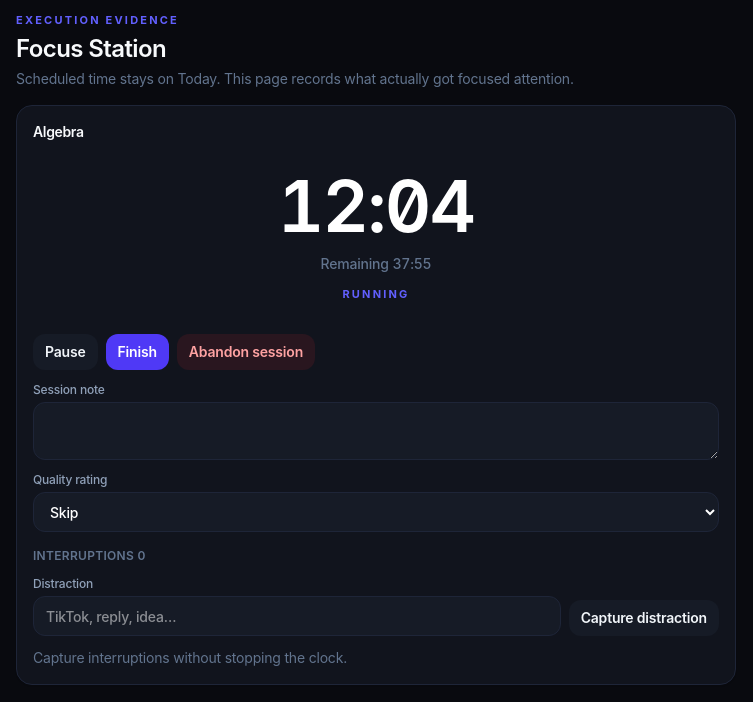
Test: preserves typed reflection on abandon, displays in summary, and persists across reload
Expected: the heading "Focus Station" is shown, [16,34,166,62]
Type "got interrupted by team meeting" into the text box labelled "Session note" at (376, 431), box [33,402,719,460]
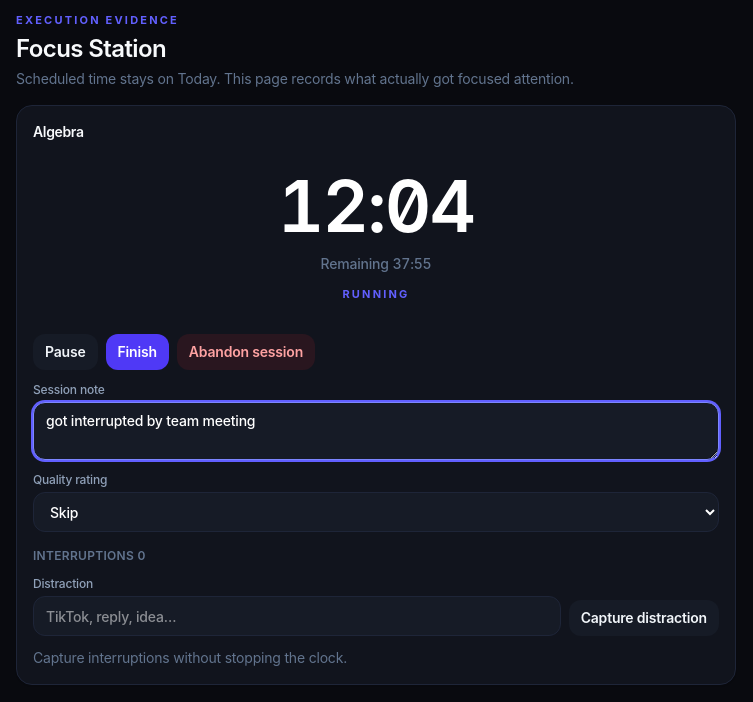
Select "2" in the dropdown labelled "Quality rating" at (376, 512), box [33,492,719,532]
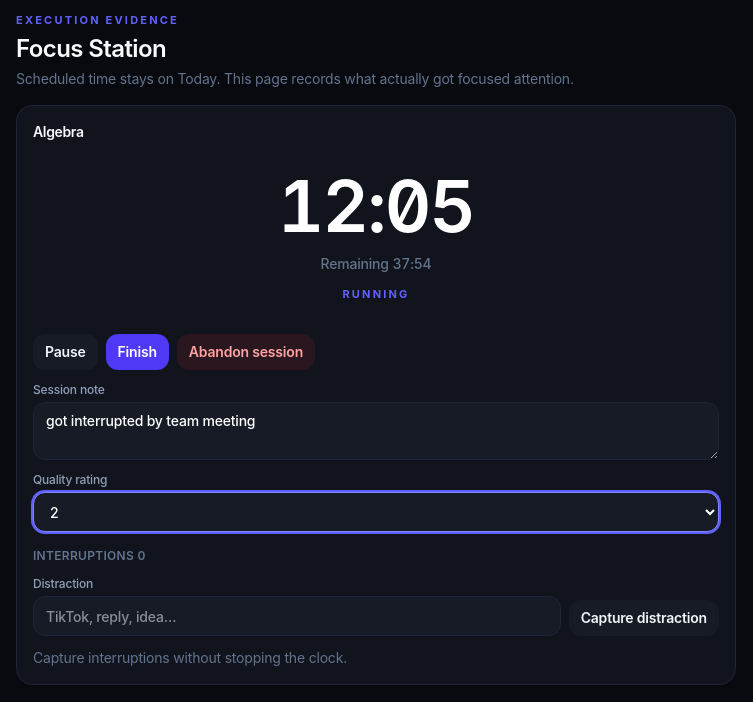
Click the button "Abandon session" at (246, 352), box [177,334,315,370]
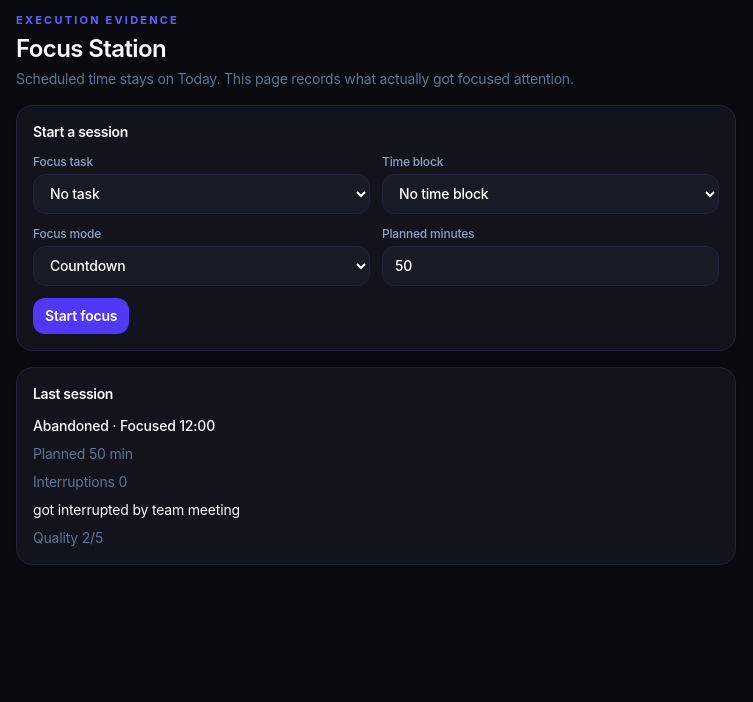
Expected: the text "Abandoned · Focused 12:00" is shown, [33,416,215,434]
Expected: the text "got interrupted by team meeting" is shown, [33,500,240,518]
Expected: the text "Quality 2/5" is shown, [33,528,103,546]
